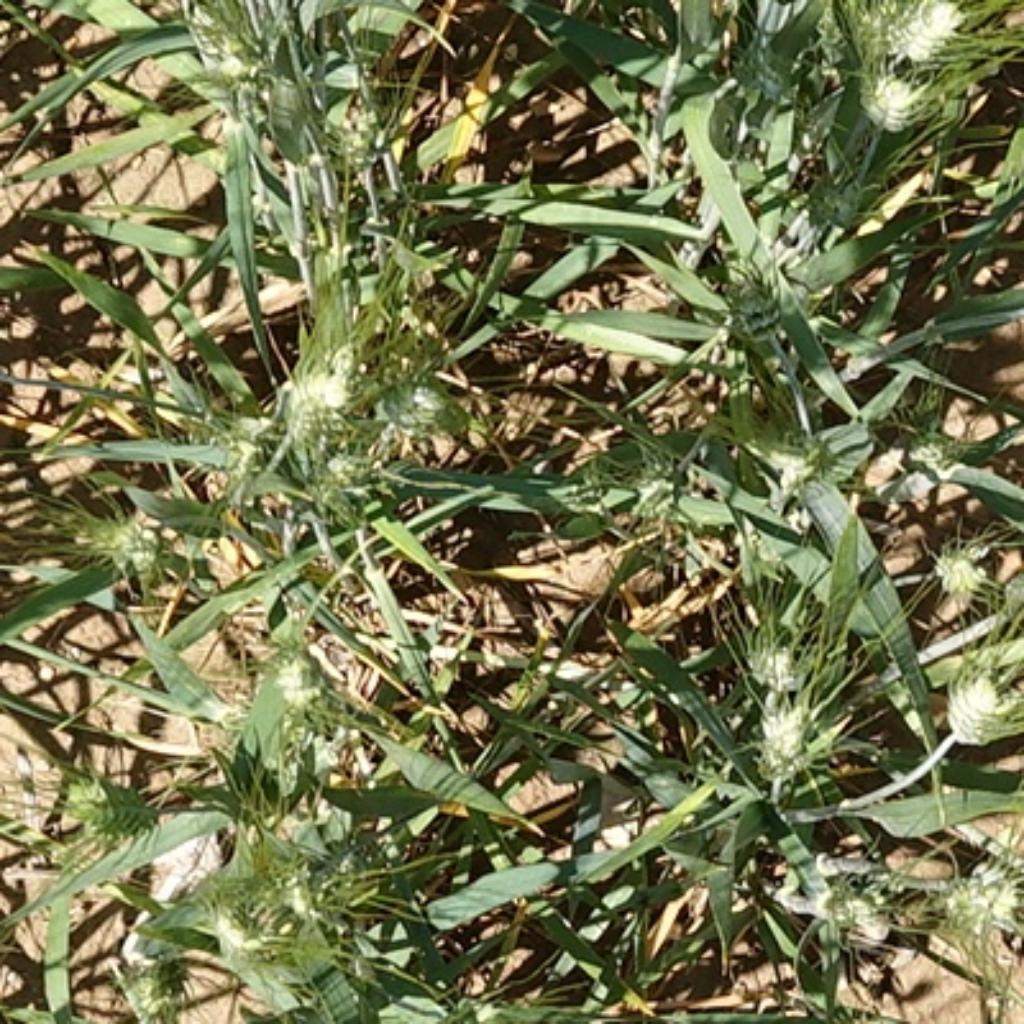0-0: (271, 622, 396, 737), (606, 422, 721, 524), (836, 0, 1000, 69), (698, 253, 803, 358), (268, 332, 371, 435), (358, 371, 471, 460), (309, 66, 399, 174), (752, 417, 860, 504), (924, 852, 1024, 944), (112, 924, 197, 1024), (199, 396, 291, 488), (58, 757, 161, 837), (64, 494, 168, 573), (796, 862, 893, 942), (199, 890, 281, 977), (747, 686, 824, 778), (939, 657, 1024, 739), (803, 158, 883, 240), (852, 56, 934, 130), (734, 624, 808, 693), (266, 852, 330, 929), (903, 412, 970, 478), (189, 34, 263, 90), (926, 532, 990, 593)
